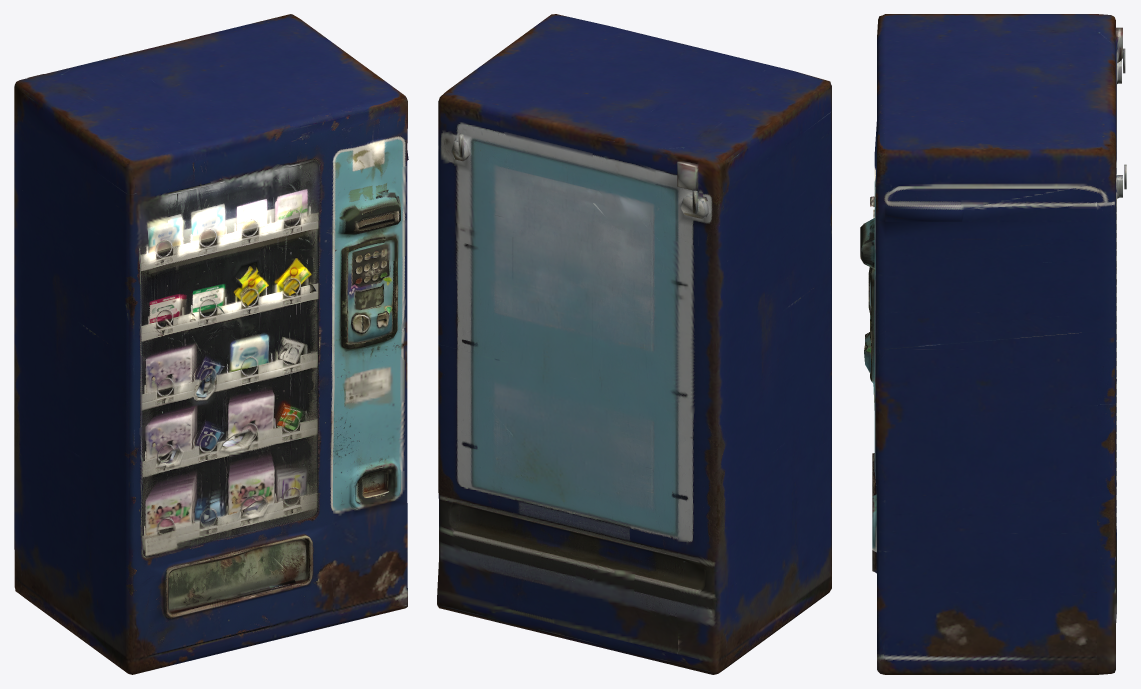
The model's file is Meshy_AI_Vintage_blue_vending__0519021401_texture.fbx.
The picture shows the model from 3 angles, left to right: view 1: azimuth 30°, elevation 25°; view 2: azimuth 150°, elevation 25°; view 3: azimuth 270°, elevation 25°; orthographic projection. The views are drawn at different scales.
Visible parts, largest first — view 1: Mesh_0; view 2: Mesh_0; view 3: Mesh_0.
Boxes of the visible parts, x1,y1,x2,y2 form: Mesh_0: [14, 14, 408, 674]; Mesh_0: [437, 14, 831, 674]; Mesh_0: [860, 14, 1126, 674].
Size of the model in its own units: 110 by 191 by 87.67.
Materials: 1 (1 with a texture image).
